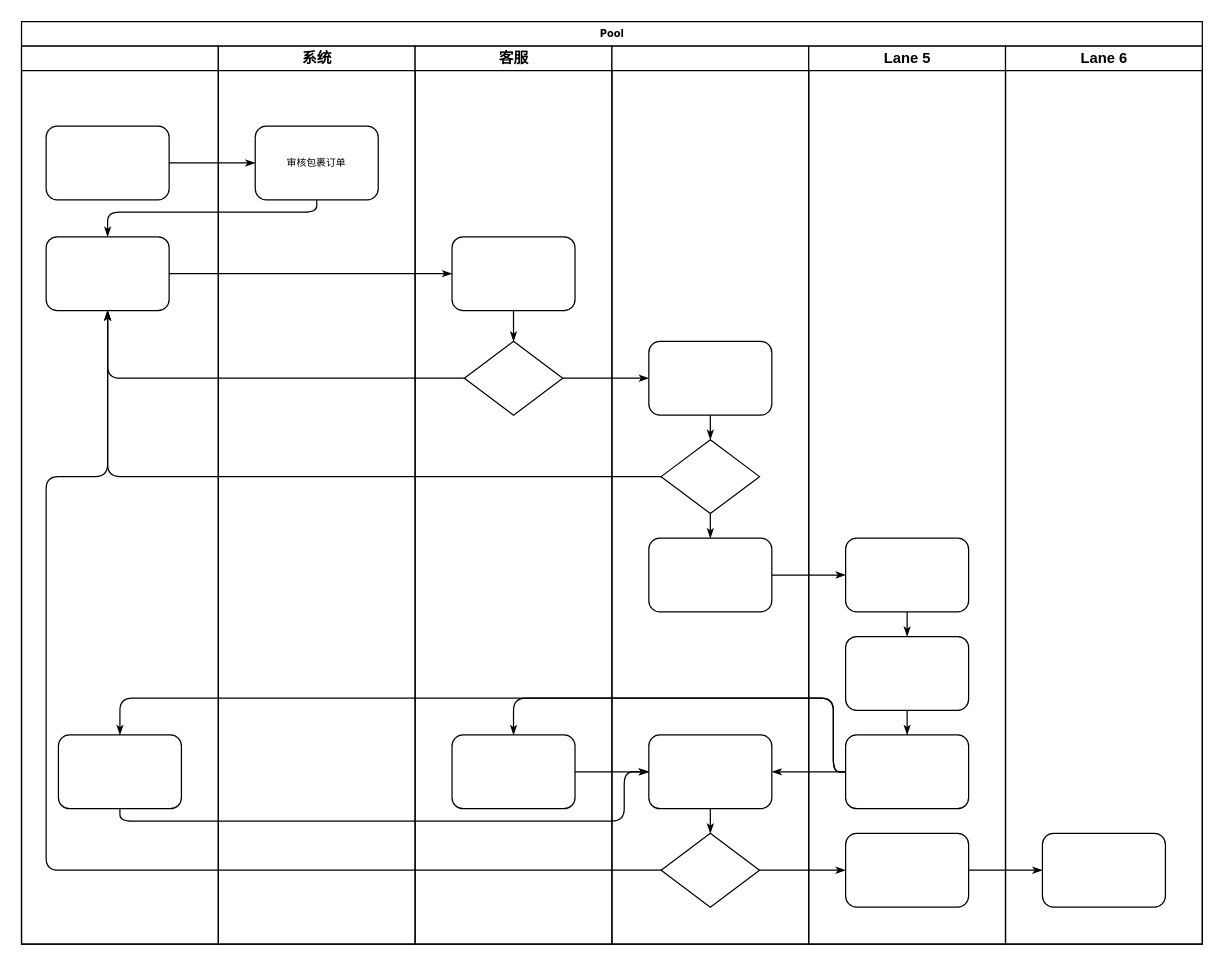
This 1224x966 diagram has some shape labels left out. The shapes that lost their labels are listed below. From the top down, each one's box as (x1, y1, x2, y2) in pixels, then its label:
(45, 125, 169, 200): 提交包裹订单
(20, 45, 218, 944): 用户
(611, 45, 809, 944): Lane 4
